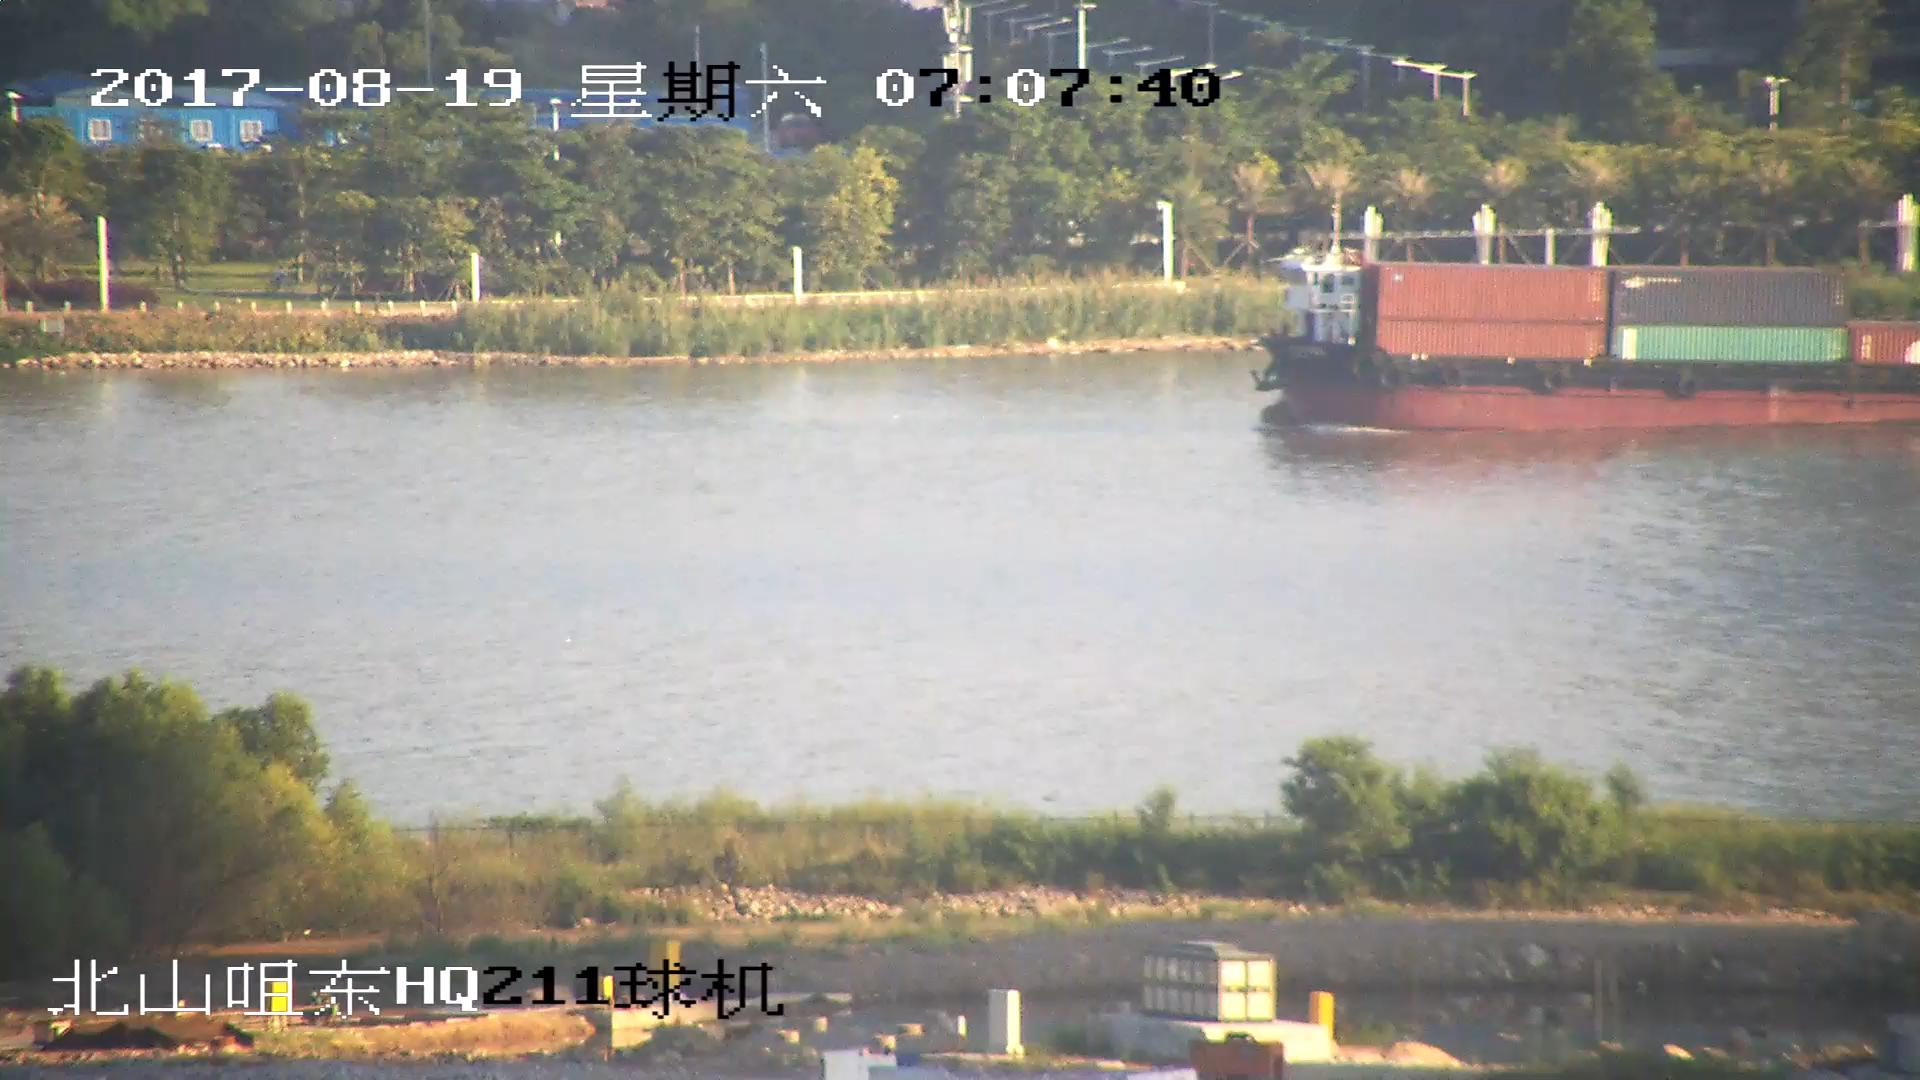container ship: (1256, 243, 1920, 431)
